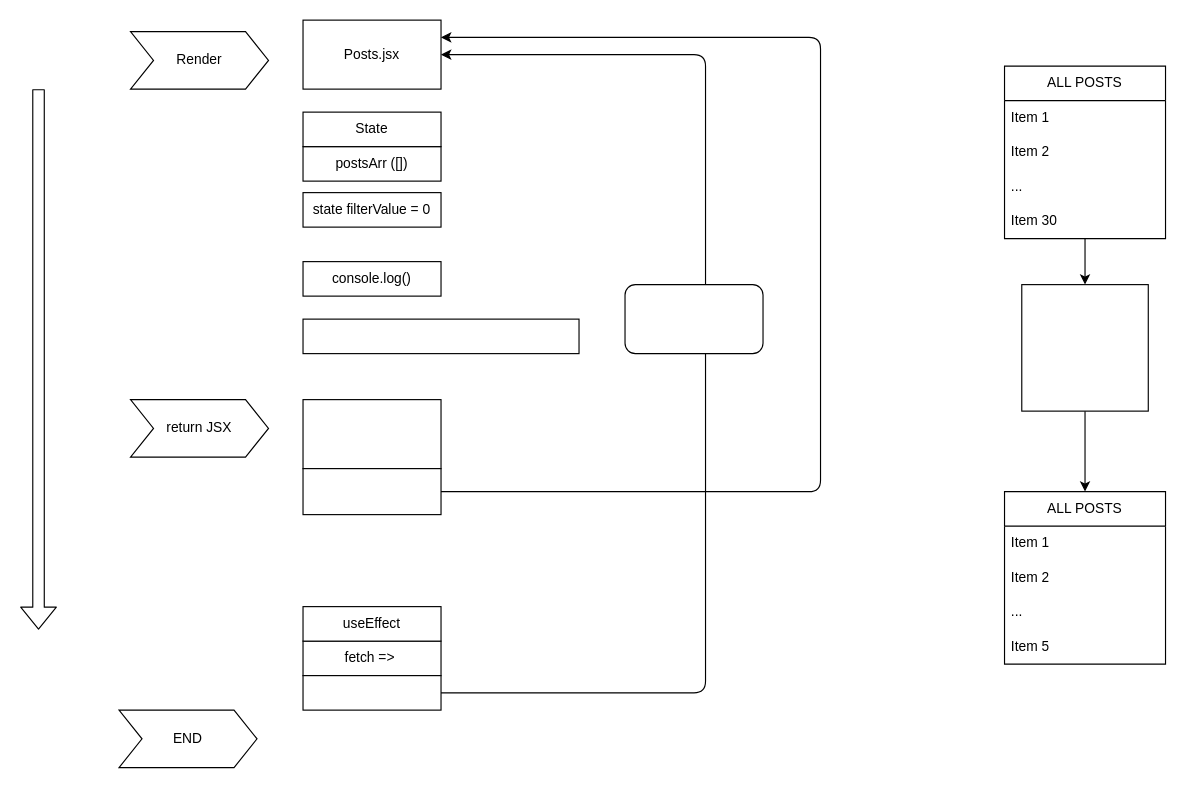
Some shapes in this 1186 by 788 pixel diagram are drawn without their labels. The centre of each missing label's shape, as x and y in pixels:
"30 posts []" goes at point 693,318.
"<div> ... </div>" goes at point 371,433.
"button filterValue" goes at point 371,491.
"const filtered = postsArr.slice(0,filterValue)" goes at point 440,336.
"setPostArr()" goes at point 371,692.
"slice(0,15)" goes at point 1084,347.
